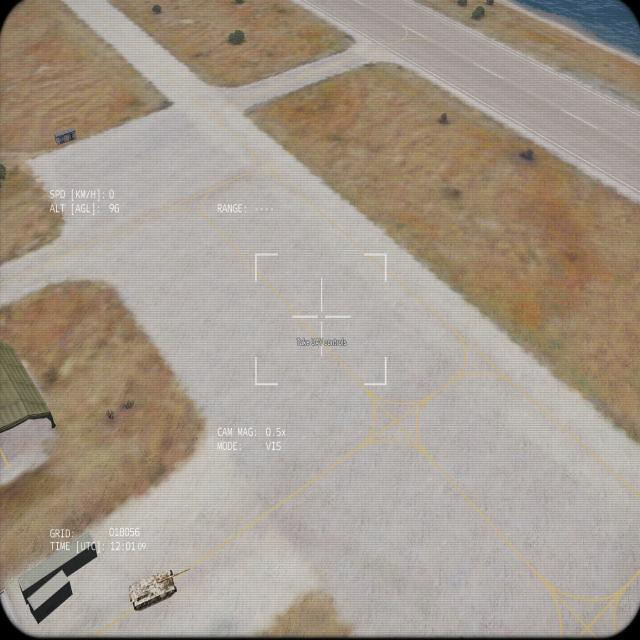tank: (127, 566, 191, 612)
